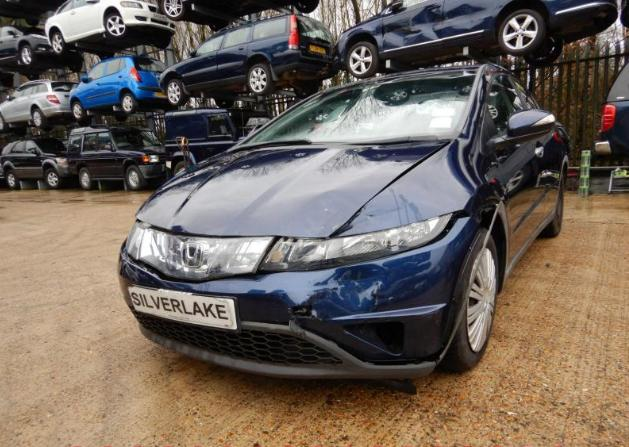Back-door: (541, 126, 562, 218)
Back-wheel: (535, 169, 565, 240)
Back-window: (511, 76, 537, 108)
Fender: (330, 139, 508, 293)
Front-bumper: (118, 217, 481, 379)
Front-door: (481, 72, 547, 266)
Front-wheel: (447, 228, 499, 372)
Front-window: (485, 75, 529, 141)
Grille: (131, 308, 340, 364)
Headlight: (257, 211, 462, 273), (124, 222, 144, 263)
Hood: (136, 138, 454, 237)
License-plate: (129, 286, 238, 330)
Mirror: (487, 108, 556, 154)
Quarter-panel: (554, 120, 572, 186)
Rocker-panel: (507, 208, 557, 276)
Windshield: (234, 65, 485, 147)
